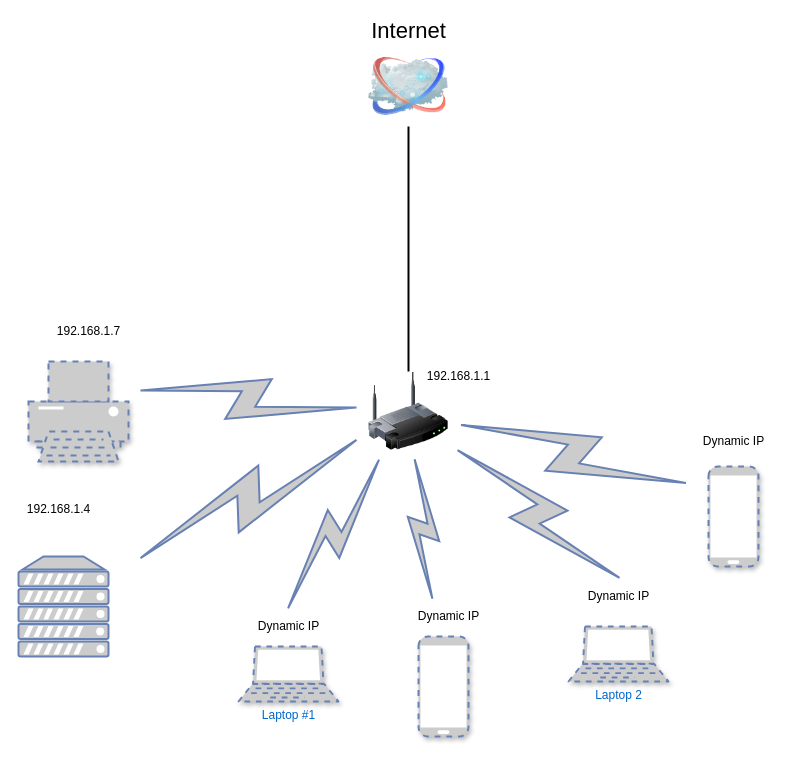
Image size: 790x761. Some labels were removed from this diagram. The centre of each missing label's shape, as x and y in pixels:
"Printer" belongs at point 79,412.
"Server" belongs at point 63,606.
